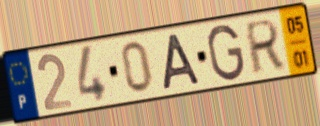0: (120, 39, 157, 97)
2: (35, 51, 76, 113)
4: (77, 43, 109, 107)
A: (162, 31, 203, 93)
G: (205, 22, 246, 83)
R: (244, 16, 286, 78)
